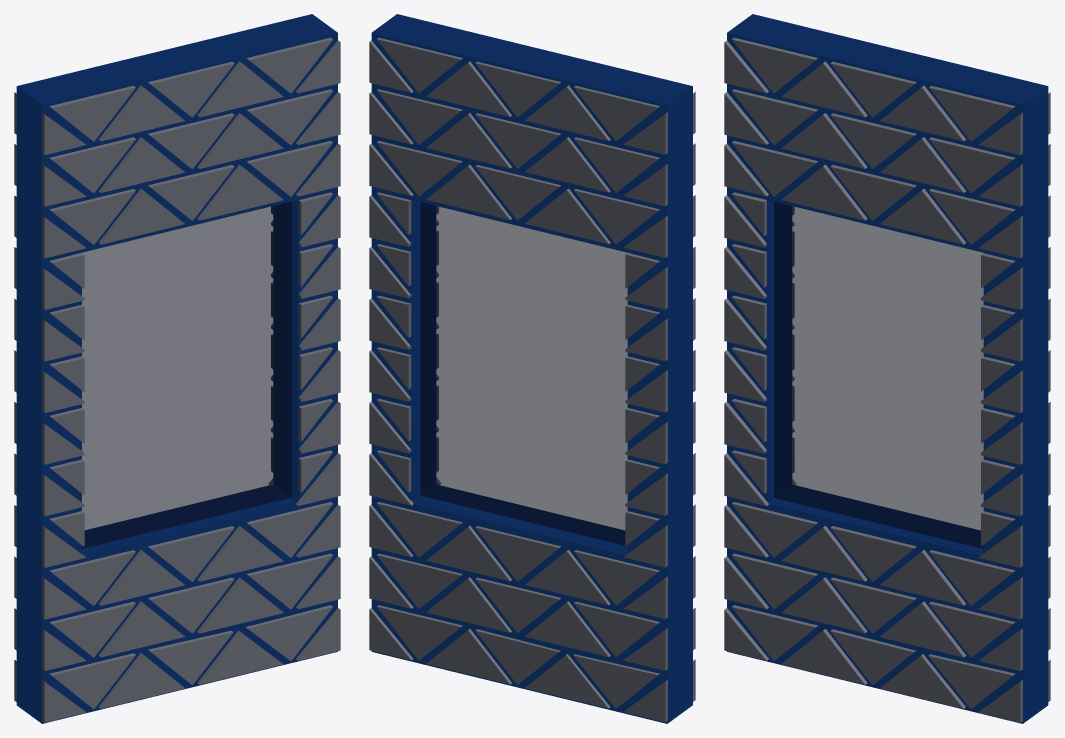
Rendered from FuturisticWindow.glb.
3 renders of one model, left to right at view 1: azimuth 30°, elevation 25°; view 2: azimuth 150°, elevation 25°; view 3: azimuth 330°, elevation 25°, orthographic.
Parts seen in each view (by area): view 1: wall_futuristic_window; view 2: wall_futuristic_window; view 3: wall_futuristic_window.
Boxes of the visible parts, x1,y1,x2,y2 form: wall_futuristic_window: (14, 14, 340, 723); wall_futuristic_window: (369, 14, 695, 723); wall_futuristic_window: (724, 14, 1050, 723).
Size of what is drawn, in the model's own units: 2 by 4 by 0.3547.
Materials: 3 (3 with a texture image).
